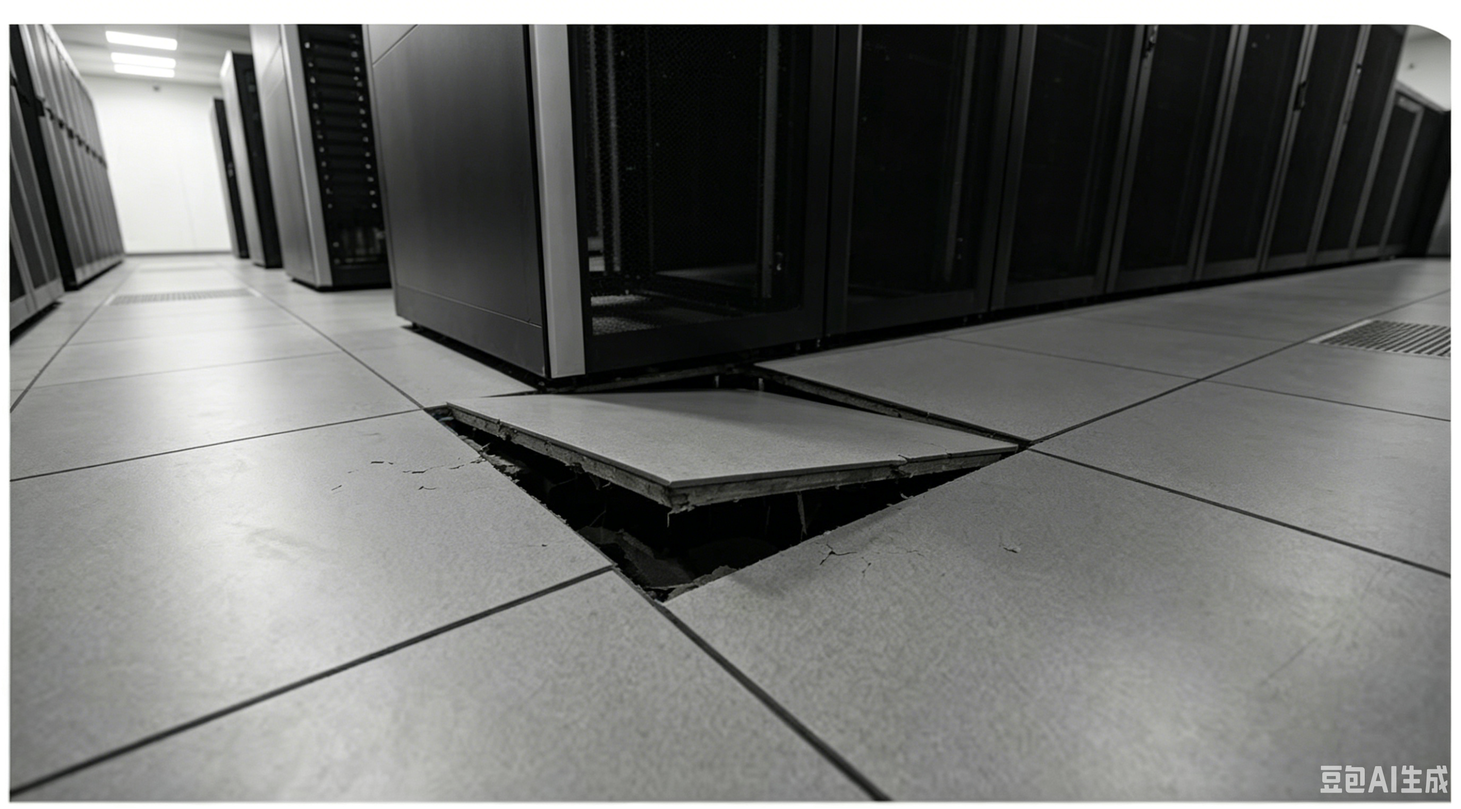floor_defect: (399, 371, 1043, 599)
